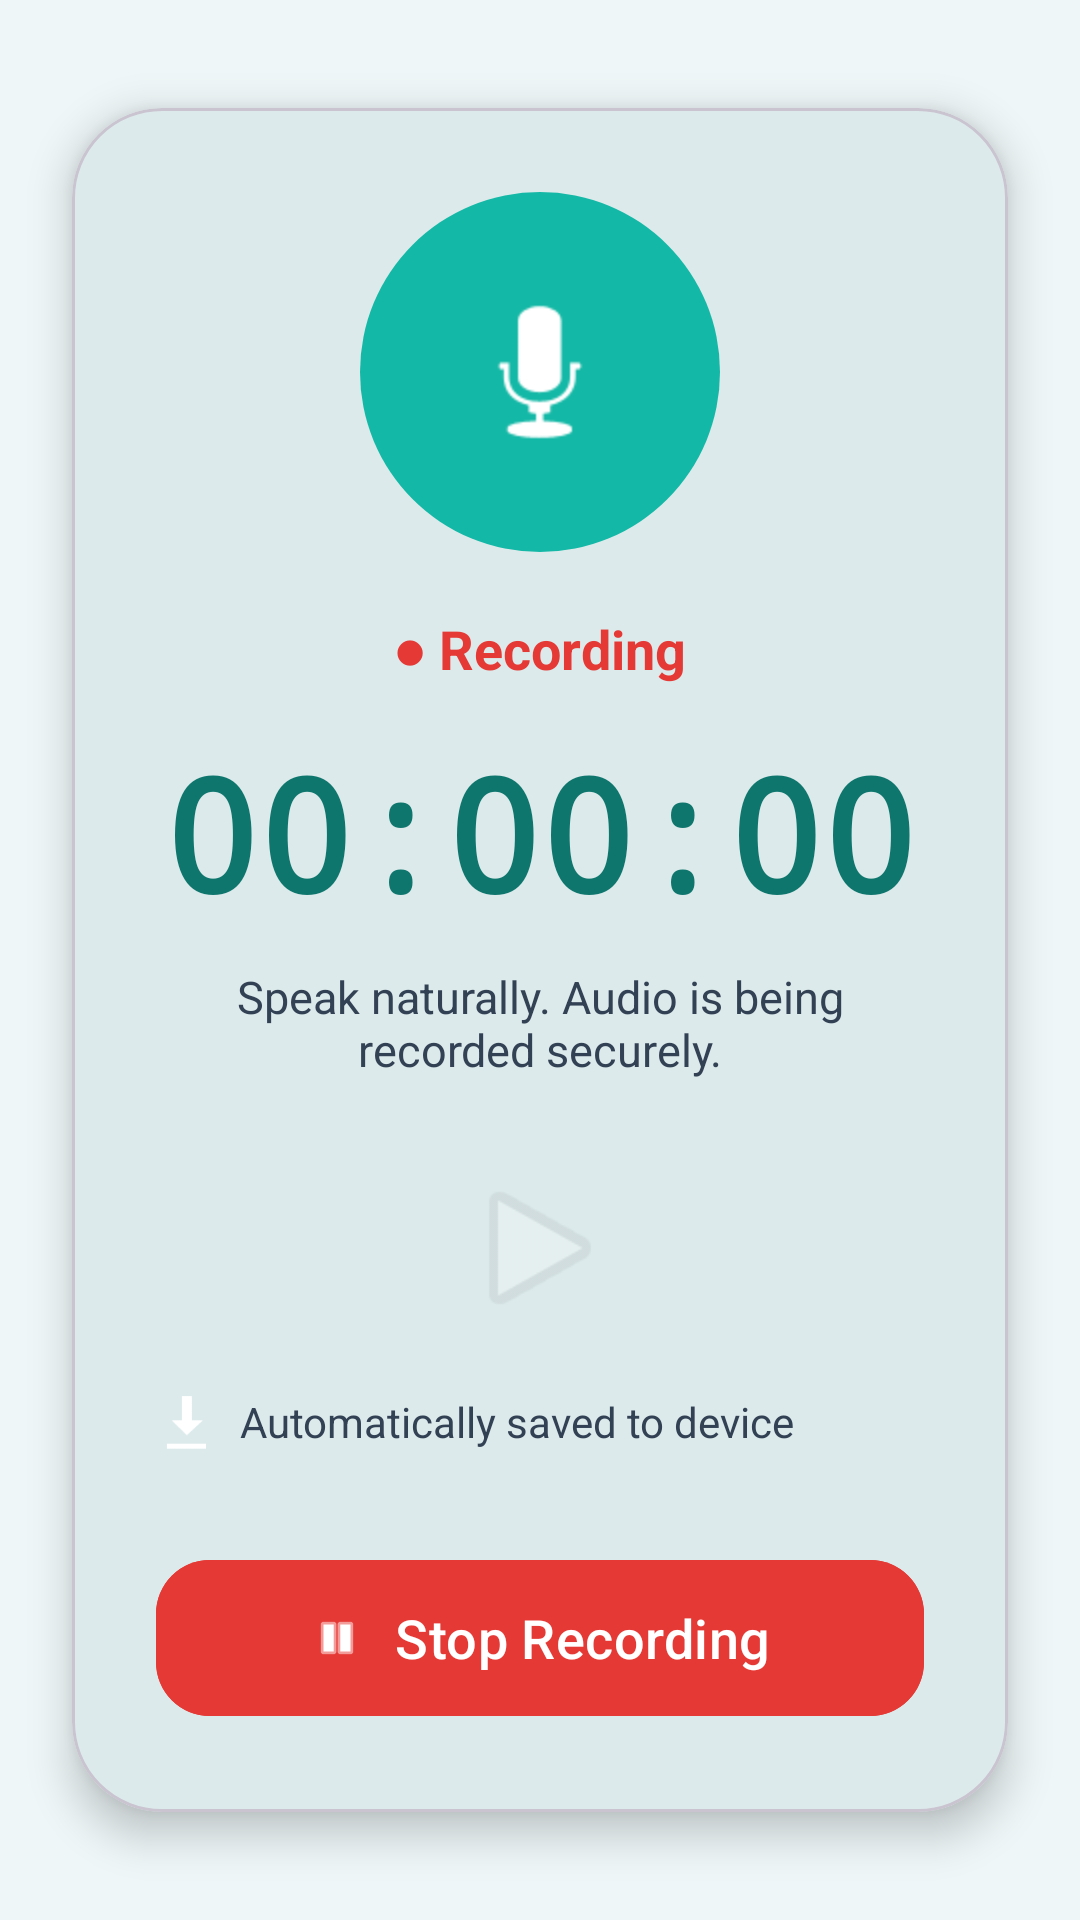

Icons on this 1080px×1920px Android screen, each with its box as (x1, y1, x2, y2):
download done: (167, 1396, 206, 1448)
speak now: (498, 305, 582, 439)
